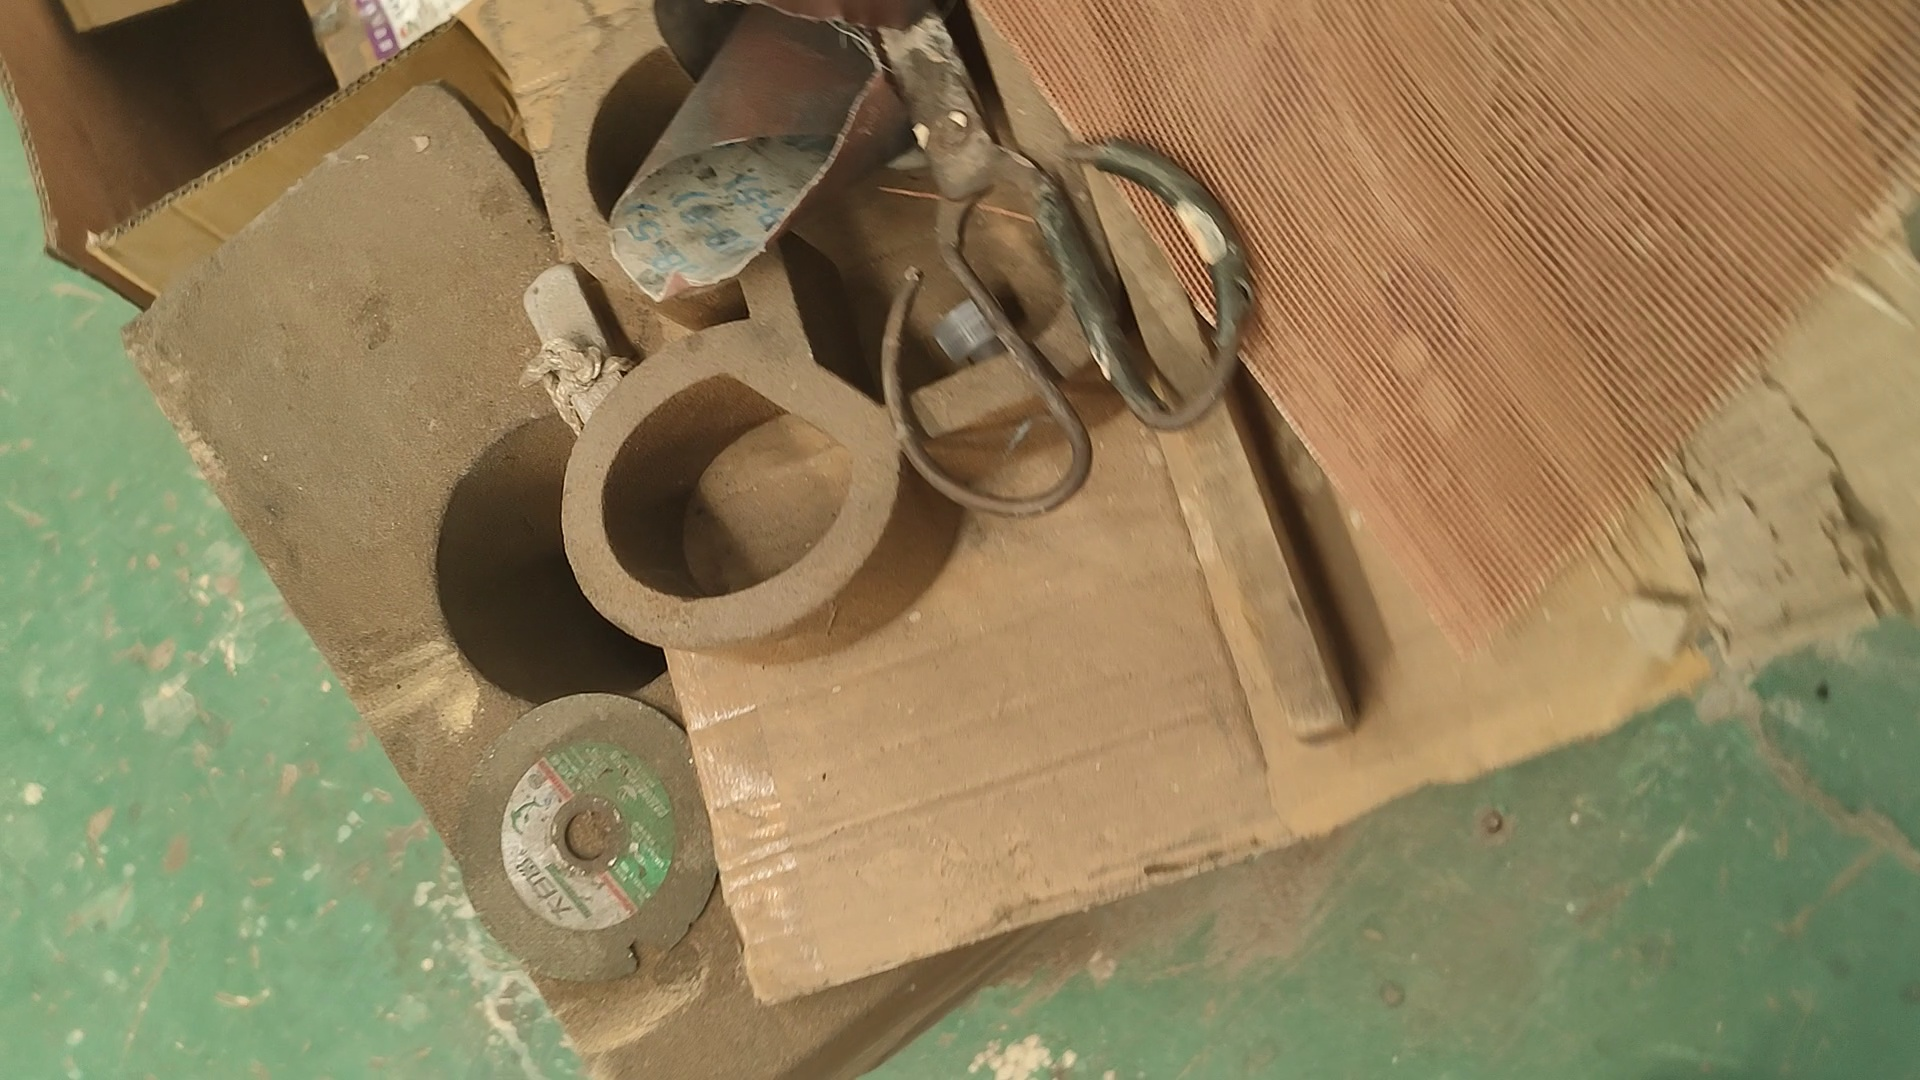pouring hole: (433, 407, 705, 705), (585, 45, 815, 241)
